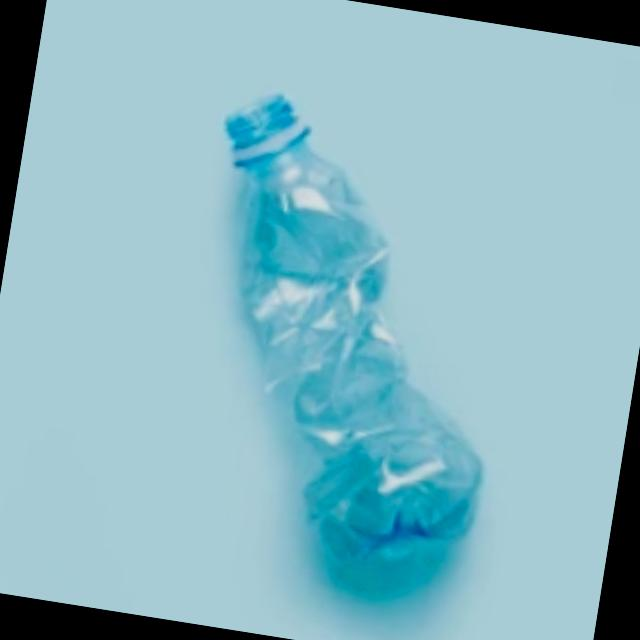Plastic: (121, 54, 592, 624)
